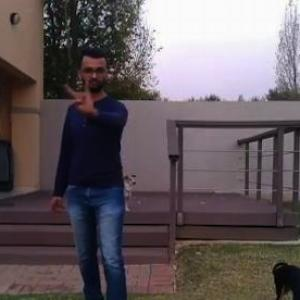takeoff-hand: (61, 77, 102, 120)
